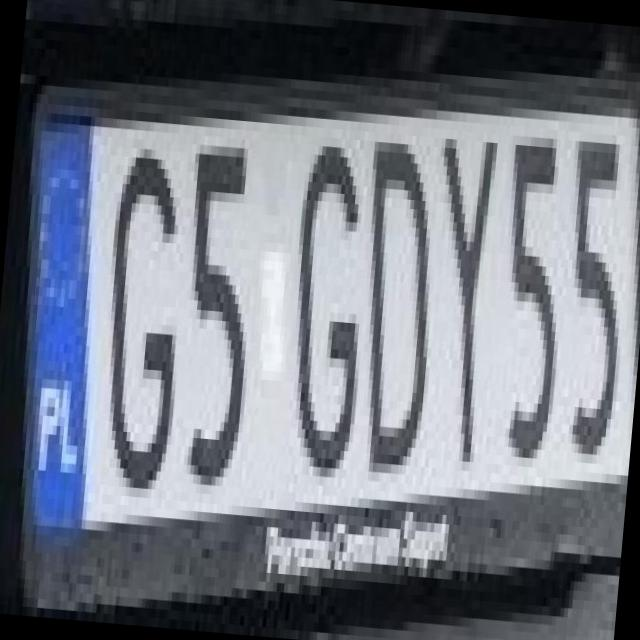5: (514, 100, 638, 456), (152, 125, 272, 488), (474, 116, 576, 460)
D: (332, 112, 451, 466)
G: (261, 107, 388, 480), (76, 118, 202, 490)
Y: (406, 110, 514, 463)
